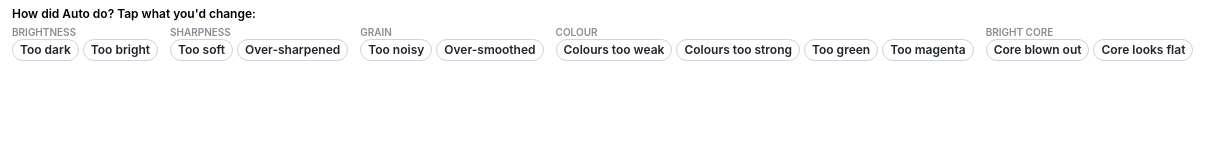
Test: AutoFeedback › sends the matching cue and re-runs Auto when a chip is tapped
Click the button "Too dark" at (45, 50), box [12,39,79,61]
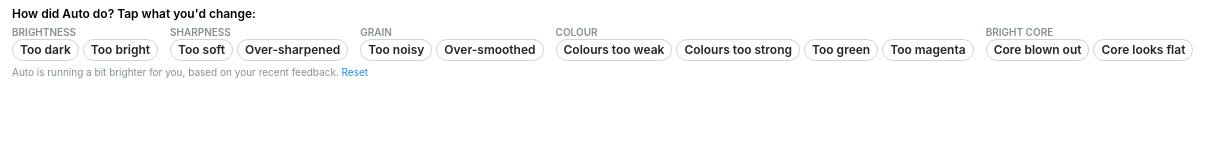
expect the text "running a bit brighter" is shown: met, box [12,66,339,78]
